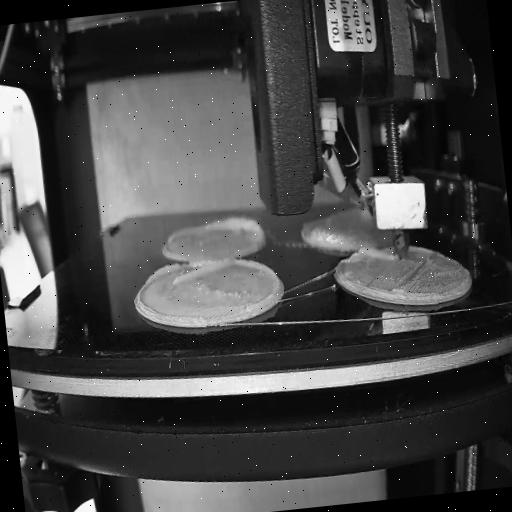over_extrusion: (234, 253, 282, 313), (144, 257, 229, 288), (206, 211, 266, 249), (362, 243, 398, 263)
